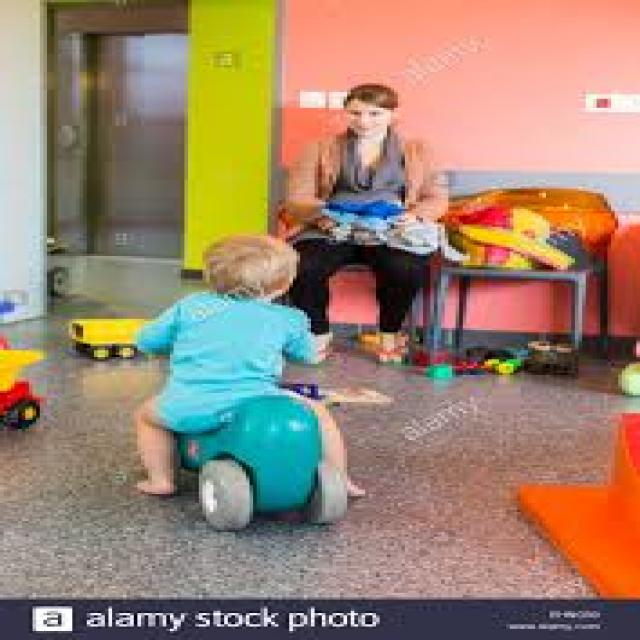nonfall: (138, 227, 338, 478), (299, 76, 447, 347), (283, 355, 288, 355)
